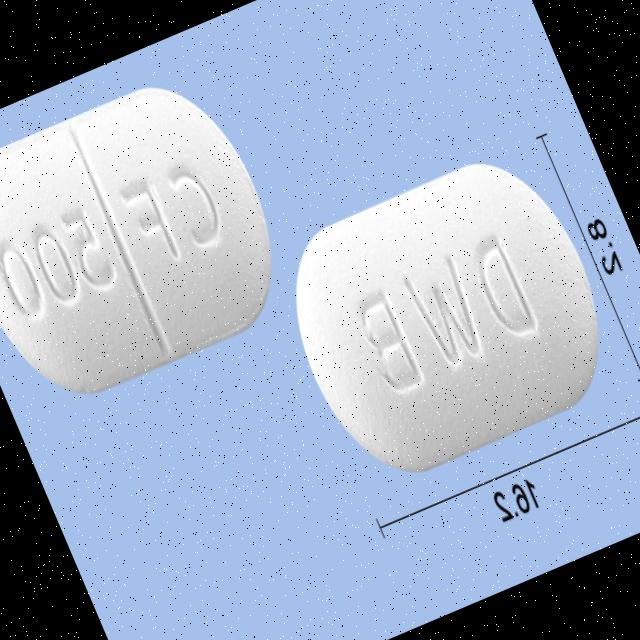Bearcin: (256, 132, 638, 502), (0, 55, 309, 425)
